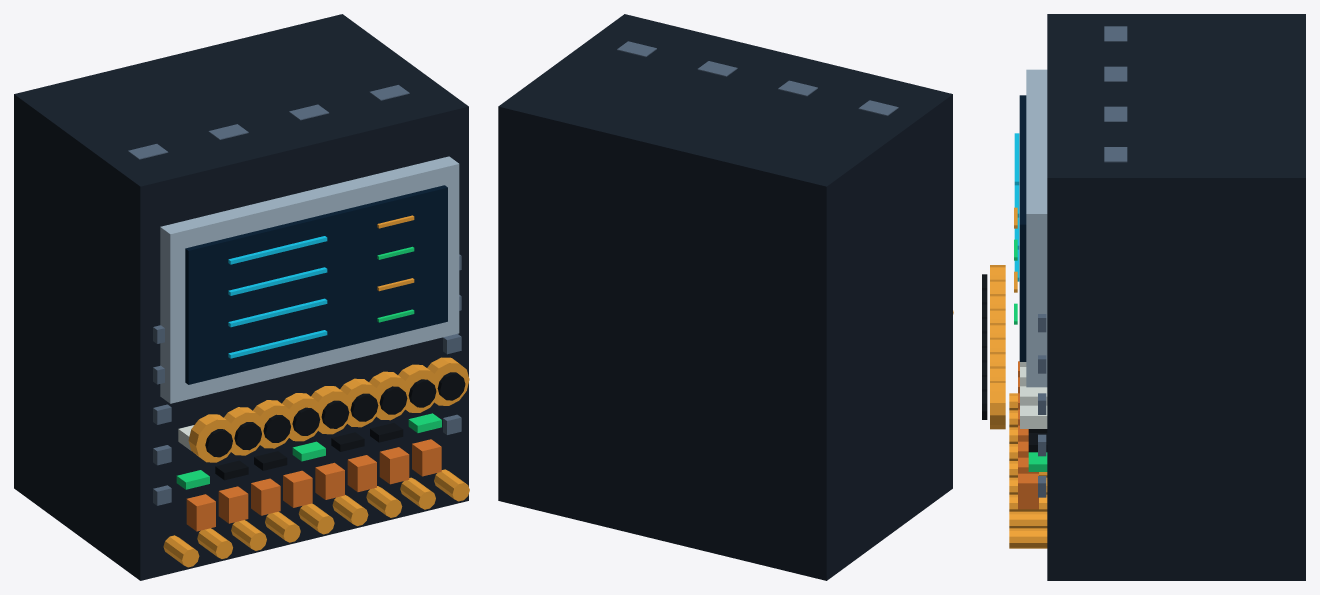
Rendered from 78_L88_Protected5VControlSupply.fbx.
3 views of the same model, side by side, from view 1: azimuth 30°, elevation 25°; view 2: azimuth 150°, elevation 25°; view 3: azimuth 270°, elevation 25° (orthographic). The views are drawn at different scales.
Visible parts, largest first — view 1: L87_Protected5VControlSupply_Part_0000, L87_Protected5VControlSupply_Part_0002, L87_Protected5VControlSupply_Part_0001, L87_Protected5VControlSupply_Part_0009, L87_Protected5VControlSupply_Part_0004, L87_Protected5VControlSupply_Part_0008, L87_Protected5VControlSupply_Part_0003, L87_Protected5VControlSupply_Part_0007, L87_Protected5VControlSupply_Part_0005, L87_Protected5VControlSupply_Part_0010, L87_Protected5VControlSupply_Part_0026, L87_Protected5VControlSupply_Part_0020 (+15 smaller); view 2: L87_Protected5VControlSupply_Part_0000, L87_Protected5VControlSupply_Part_0008; view 3: L87_Protected5VControlSupply_Part_0000, L87_Protected5VControlSupply_Part_0001, L87_Protected5VControlSupply_Part_0004, L87_Protected5VControlSupply_Part_0008, L87_Protected5VControlSupply_Part_0002, L87_Protected5VControlSupply_Part_0009, L87_Protected5VControlSupply_Part_0006, L87_Protected5VControlSupply_Part_0026, L87_Protected5VControlSupply_Part_0003, L87_Protected5VControlSupply_Part_0005.
Part boxes in pixels (bbox=[...]): L87_Protected5VControlSupply_Part_0000: bbox=[14, 14, 468, 580]; L87_Protected5VControlSupply_Part_0002: bbox=[185, 185, 447, 384]; L87_Protected5VControlSupply_Part_0001: bbox=[160, 156, 459, 403]; L87_Protected5VControlSupply_Part_0009: bbox=[186, 439, 441, 531]; L87_Protected5VControlSupply_Part_0004: bbox=[163, 215, 469, 567]; L87_Protected5VControlSupply_Part_0008: bbox=[128, 85, 461, 505]; L87_Protected5VControlSupply_Part_0003: bbox=[228, 236, 327, 358]; L87_Protected5VControlSupply_Part_0007: bbox=[215, 423, 403, 480]; L87_Protected5VControlSupply_Part_0005: bbox=[176, 246, 441, 489]; L87_Protected5VControlSupply_Part_0010: bbox=[188, 414, 235, 462]; L87_Protected5VControlSupply_Part_0026: bbox=[427, 357, 469, 405]; L87_Protected5VControlSupply_Part_0020: bbox=[340, 378, 380, 427]; L87_Protected5VControlSupply_Part_0000: bbox=[498, 14, 952, 580]; L87_Protected5VControlSupply_Part_0008: bbox=[617, 41, 898, 115]; L87_Protected5VControlSupply_Part_0000: bbox=[1047, 14, 1305, 580]; L87_Protected5VControlSupply_Part_0001: bbox=[1026, 69, 1047, 387]; L87_Protected5VControlSupply_Part_0004: bbox=[1009, 207, 1047, 548]; L87_Protected5VControlSupply_Part_0008: bbox=[1038, 26, 1127, 497]; L87_Protected5VControlSupply_Part_0002: bbox=[1019, 95, 1026, 361]; L87_Protected5VControlSupply_Part_0009: bbox=[1018, 361, 1038, 509]; L87_Protected5VControlSupply_Part_0006: bbox=[1020, 362, 1047, 428]; L87_Protected5VControlSupply_Part_0026: bbox=[990, 381, 1005, 429]; L87_Protected5VControlSupply_Part_0003: bbox=[1014, 133, 1019, 281]; L87_Protected5VControlSupply_Part_0005: bbox=[1014, 239, 1047, 471].
Size of the model in its own units: 104 by 120 by 86.88.
